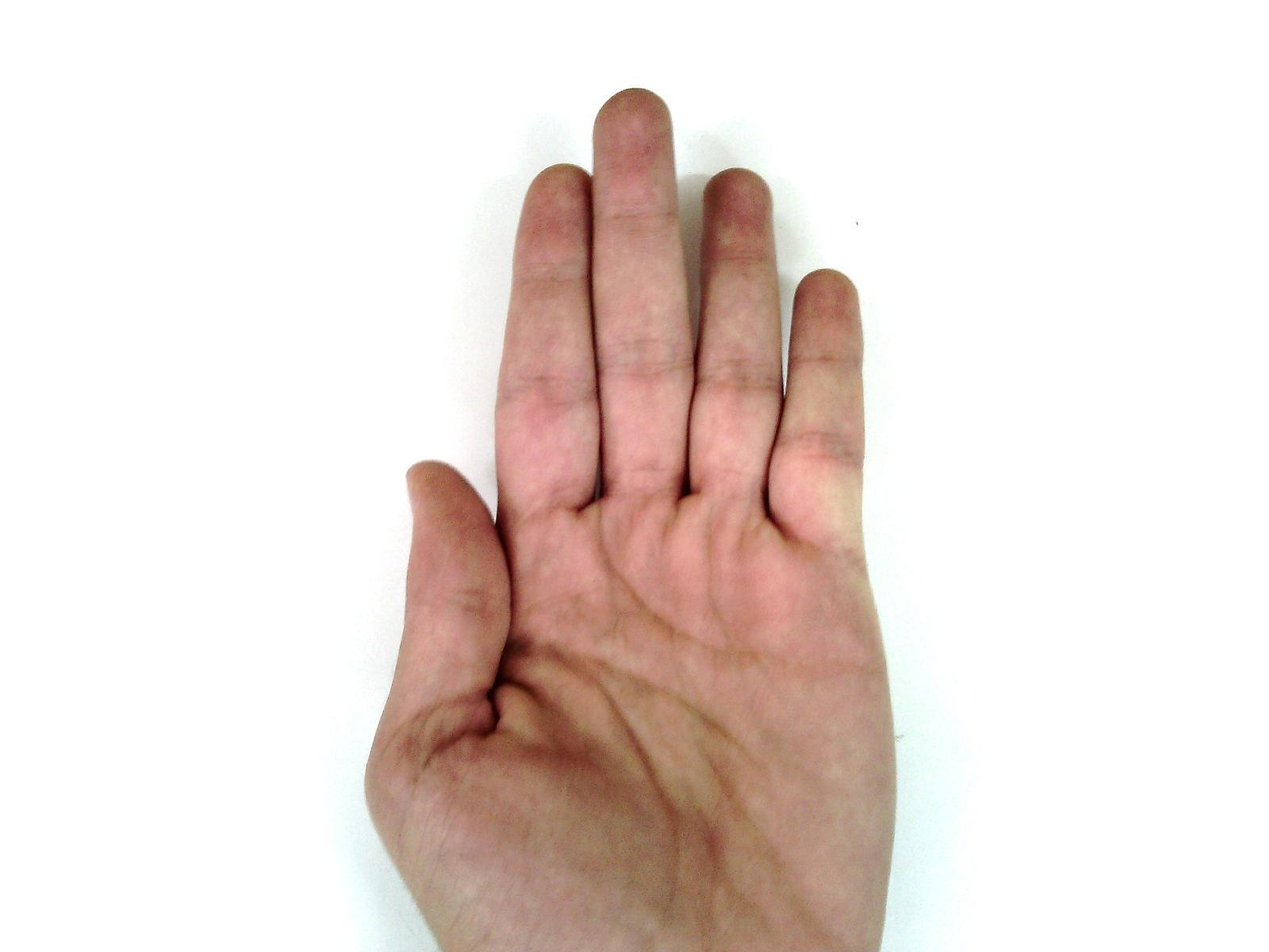open_palm: (362, 87, 903, 951)
